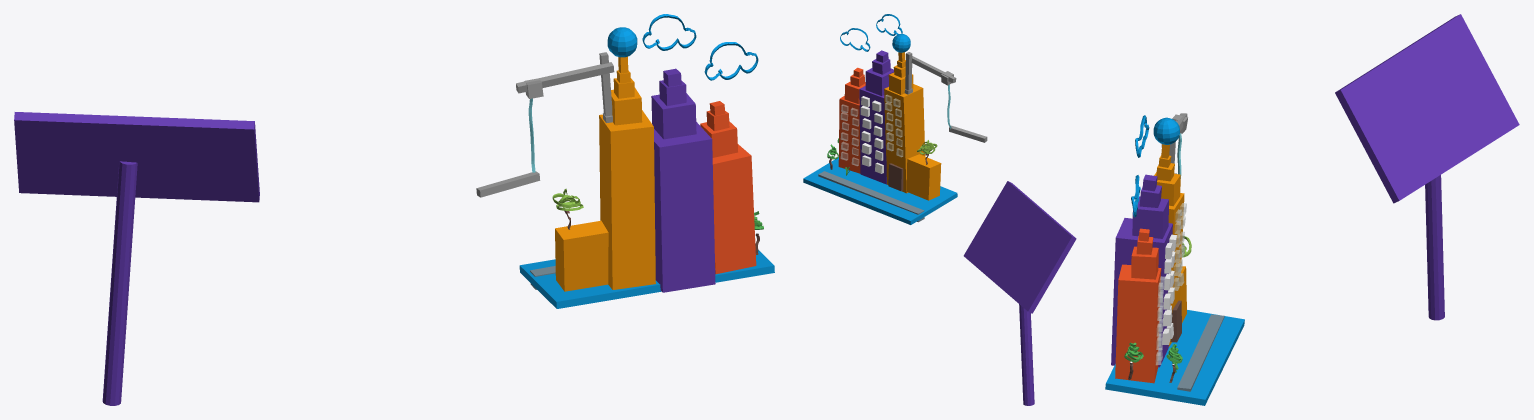
Rendered from model-triangulated.obj.
The picture shows the model from 3 angles, left to right: view 1: azimuth 30°, elevation 25°; view 2: azimuth 150°, elevation 25°; view 3: azimuth 270°, elevation 25°; orthographic projection. The views are drawn at different scales.
Parts seen in each view (by area): view 1: group643358239, group1280279435, group1246322904, group261000972, group211107444, group1651374692, group235696342, group775521539, group1500355792; view 2: group643358239, group1246322904, group1651374692, group1280279435, group261000972, group211107444, group1778478703, group844457230, group235696342, group775521539, group1500355792, group1271595529; view 3: group643358239, group261000972, group1651374692, group1280279435, group1246322904, group1778478703, group775521539.
Part boxes in pixels (x1,y1,x2,y2): group643358239: (14, 112, 259, 405); group1280279435: (651, 68, 715, 292); group1246322904: (599, 70, 655, 289); group261000972: (700, 101, 756, 274); group211107444: (555, 220, 608, 291); group1651374692: (519, 250, 774, 308); group235696342: (516, 62, 614, 93); group775521539: (607, 27, 637, 57); group1500355792: (476, 171, 540, 197); group643358239: (963, 181, 1076, 405); group1246322904: (884, 60, 925, 193); group1651374692: (803, 157, 957, 224); group1280279435: (859, 50, 893, 184); group261000972: (838, 67, 865, 173); group211107444: (906, 154, 941, 200); group1778478703: (818, 171, 924, 222); group844457230: (888, 163, 903, 191); group235696342: (911, 56, 956, 83); group775521539: (892, 33, 910, 52); group1500355792: (949, 125, 987, 142); group1271595529: (905, 52, 912, 90); group643358239: (1335, 14, 1519, 320); group261000972: (1115, 228, 1165, 383); group1651374692: (1105, 310, 1244, 405); group1280279435: (1111, 174, 1176, 367); group1246322904: (1154, 155, 1186, 346); group1778478703: (1177, 314, 1224, 391); group775521539: (1153, 117, 1179, 144).
Bounding box in the file's own units: 1.82 × 1.24 × 1.26.
